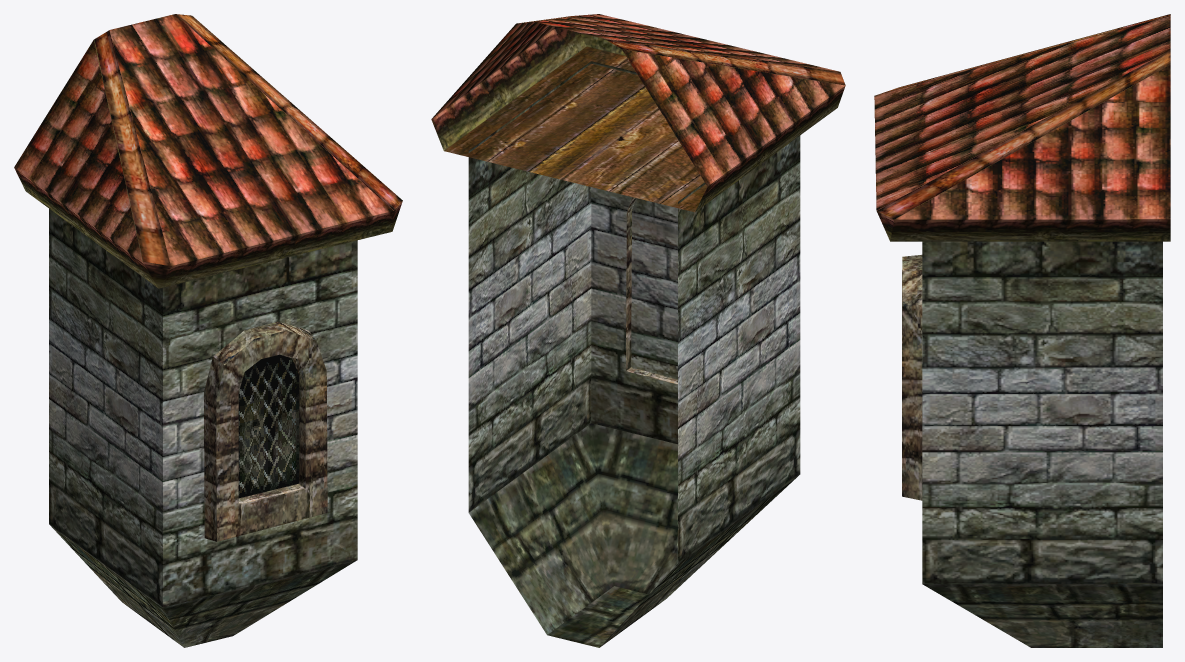
3 views of the same model, side by side, from view 1: azimuth 30°, elevation 25°; view 2: azimuth 150°, elevation 25°; view 3: azimuth 270°, elevation 25° (orthographic). The views are drawn at different scales.
Parts seen in each view (by area): view 1: cc79-col; view 2: cc79-col; view 3: cc79-col.
Boxes of the visible parts, left/top/right/bottom form: cc79-col: left=14, top=14, right=402, bottom=647; cc79-col: left=431, top=14, right=845, bottom=647; cc79-col: left=874, top=14, right=1170, bottom=647.
Bounding box in the file's own units: 3.2 × 6.78 × 3.02.
7 materials, 7 textured.
